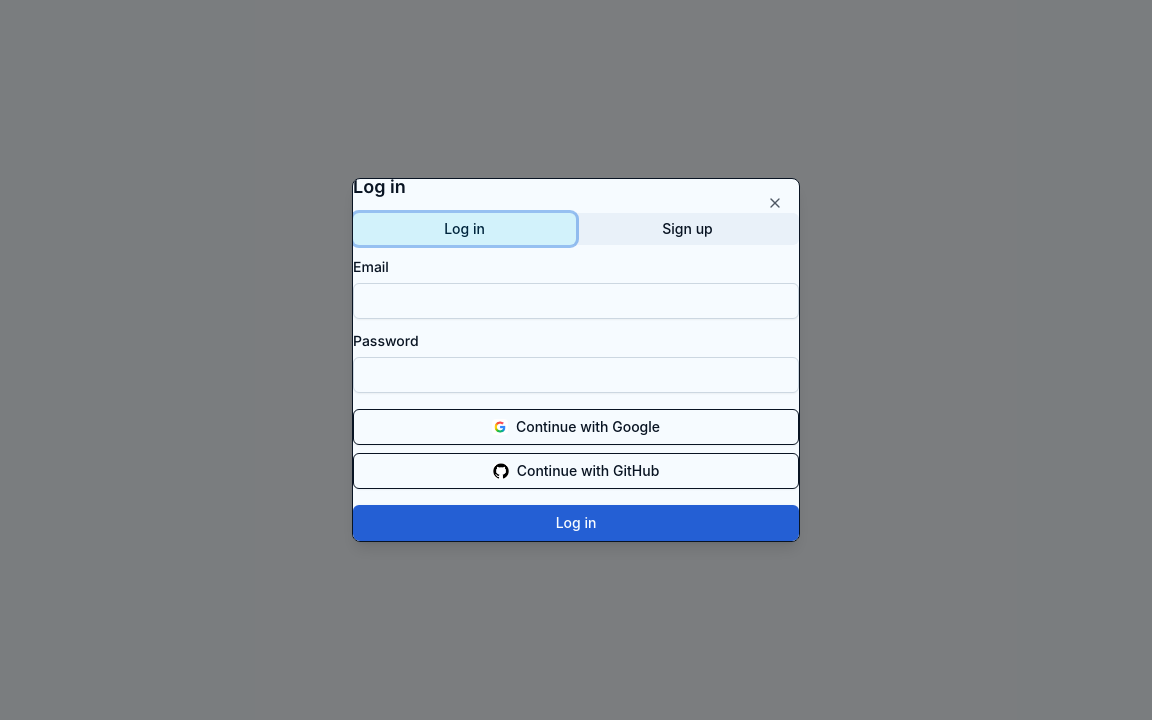
Test: LoginModal › renders login mode by default and switches to signup
The width and height of the screenshot is (1152, 720).
Expected: the dialog "Log in" is shown, [352,178,800,542]
Expected: the heading "Log in" is shown, [353,178,406,198]
Click the button "Sign up". click: (688, 229)
box: [576,213,799,245]
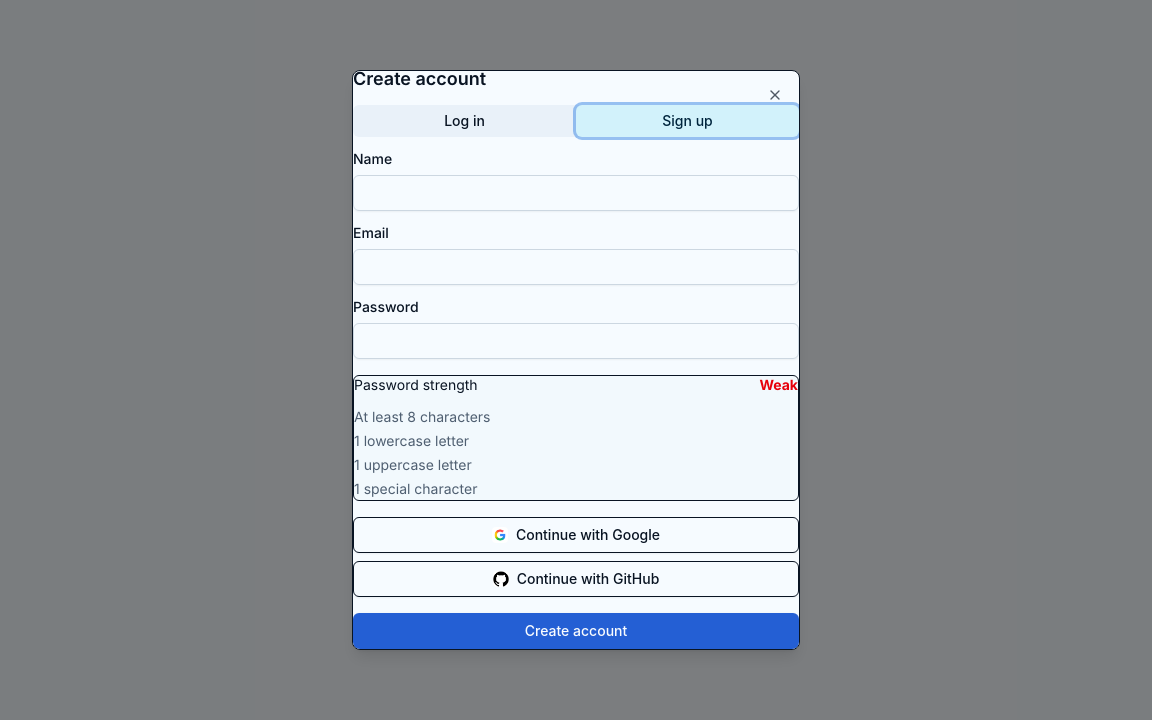
Now the dialog "Create account" is shown, box [352,70,800,650]
Now the heading "Create account" is shown, box [353,70,486,90]
Now the list item "At least 8 characters" is shown, box [354,409,490,426]
